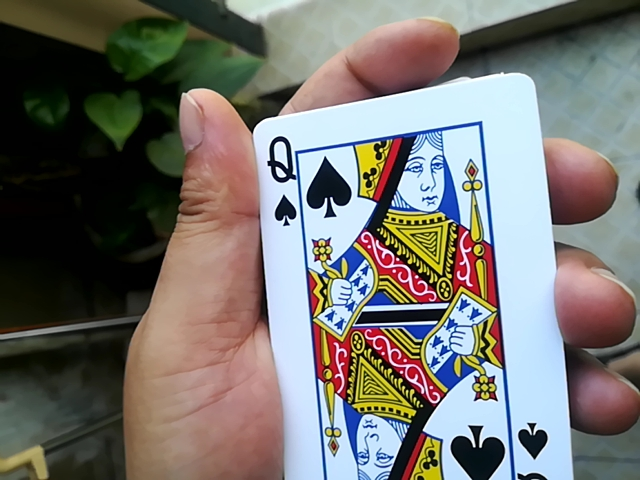ht q: (235, 70, 582, 470)
